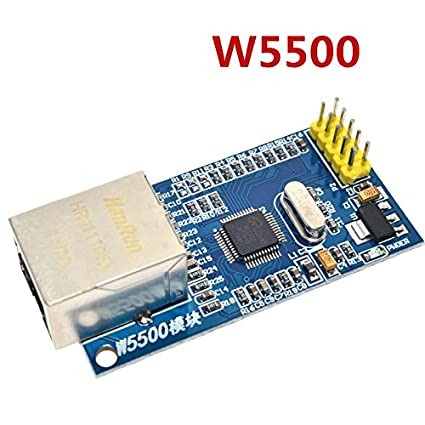Ethernet-W5500: (0, 88, 425, 425)
